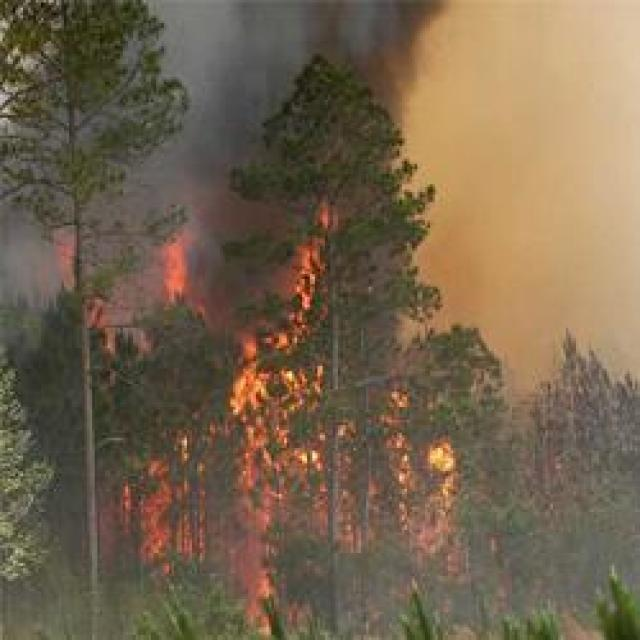Fire: (100, 228, 446, 608)
Smoke: (10, 6, 448, 350)
